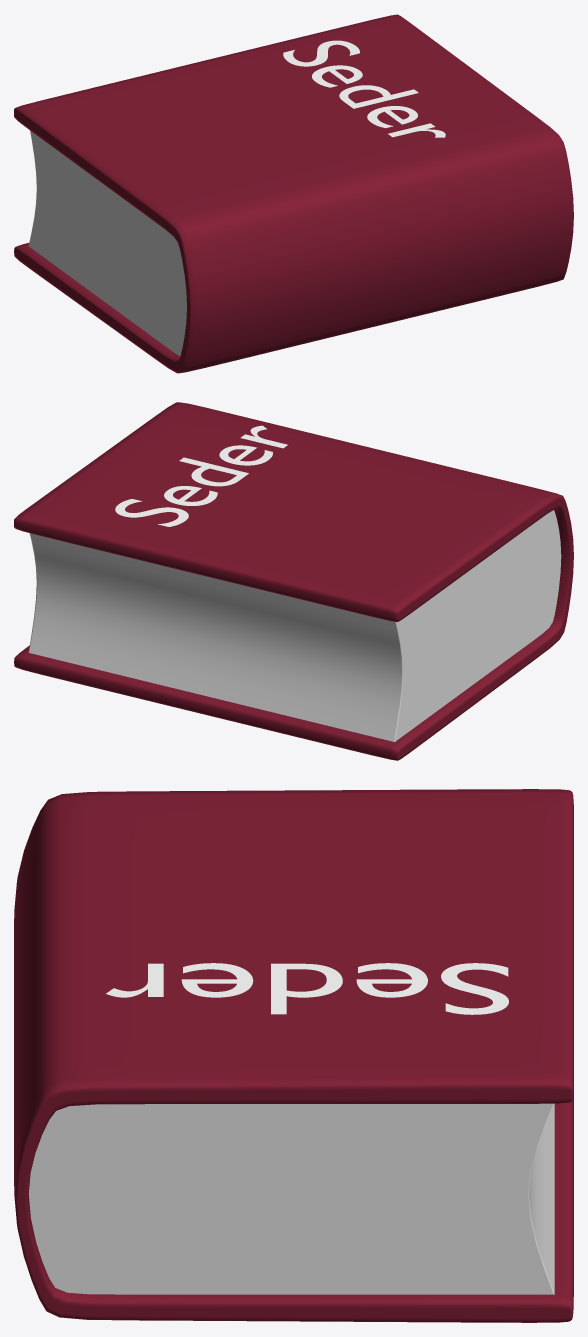
Rendered from LibroROJO.fbx.
3 views of the same model, one above another, from view 1: azimuth 30°, elevation 25°; view 2: azimuth 150°, elevation 25°; view 3: azimuth 270°, elevation 25° (orthographic). The views are drawn at different scales.
Visible parts, largest first — view 1: Libro.003; view 2: Libro.003; view 3: Libro.003.
Boxes of the visible parts, <box> form: Libro.003: <box>14,14,573,373</box>; Libro.003: <box>14,402,573,760</box>; Libro.003: <box>14,789,573,1322</box>.
Size of the model in its own units: 50 by 20 by 40.
